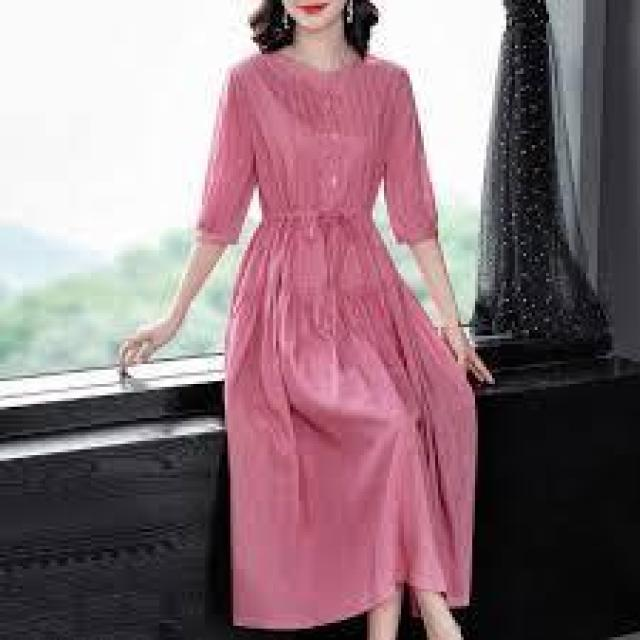dress: (185, 27, 478, 616)
